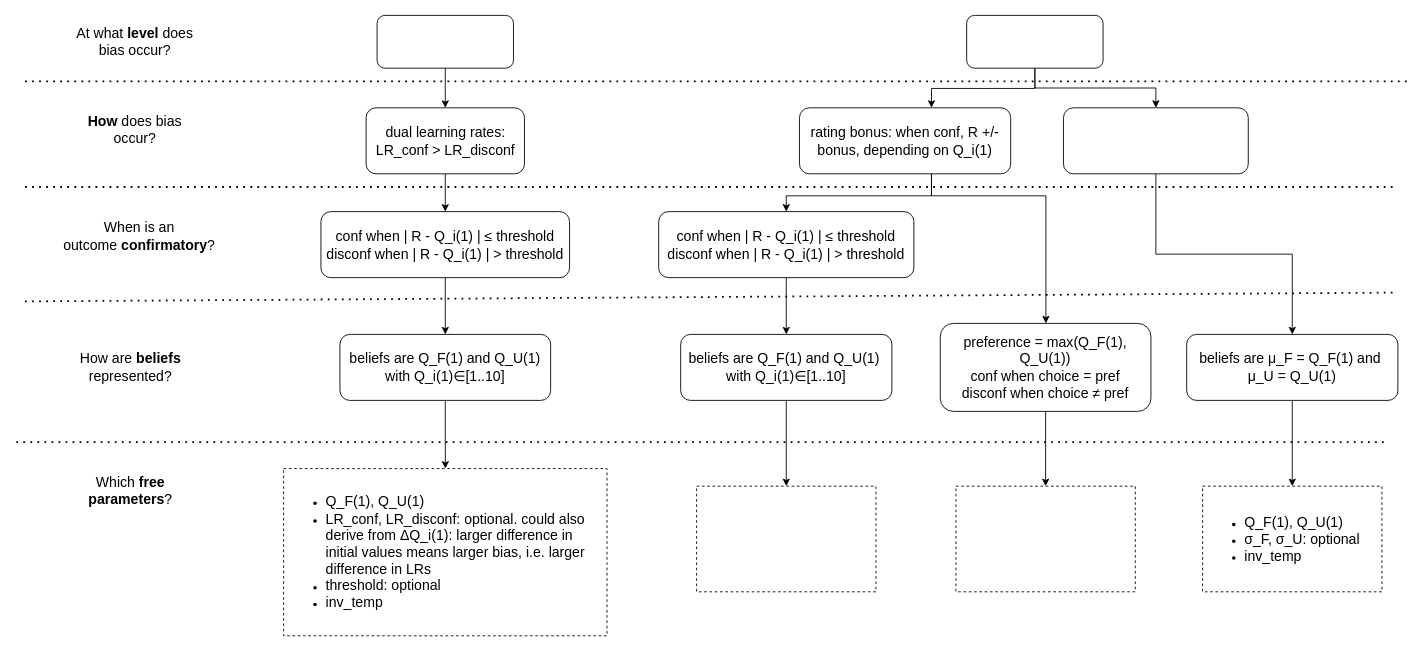
Image size: 1423x651. Some labels were removed from this diagram. The centre of each missing label's shape, as x and y in pixels:
"differential rating distributions norm(μ_F, σ_F) and norm(μ_U, σ_U)" belongs at point 1155,140.
"LEARNING" belongs at point 444,41.
"Q_F(1), Q_U(1) bonus: optional inv_temp" belongs at point 1045,538.
"Q_F(1), Q_U(1) bonus: optional threshold: optional inv_temp" belongs at point 786,538.
"RATING" belongs at point 1034,41.
